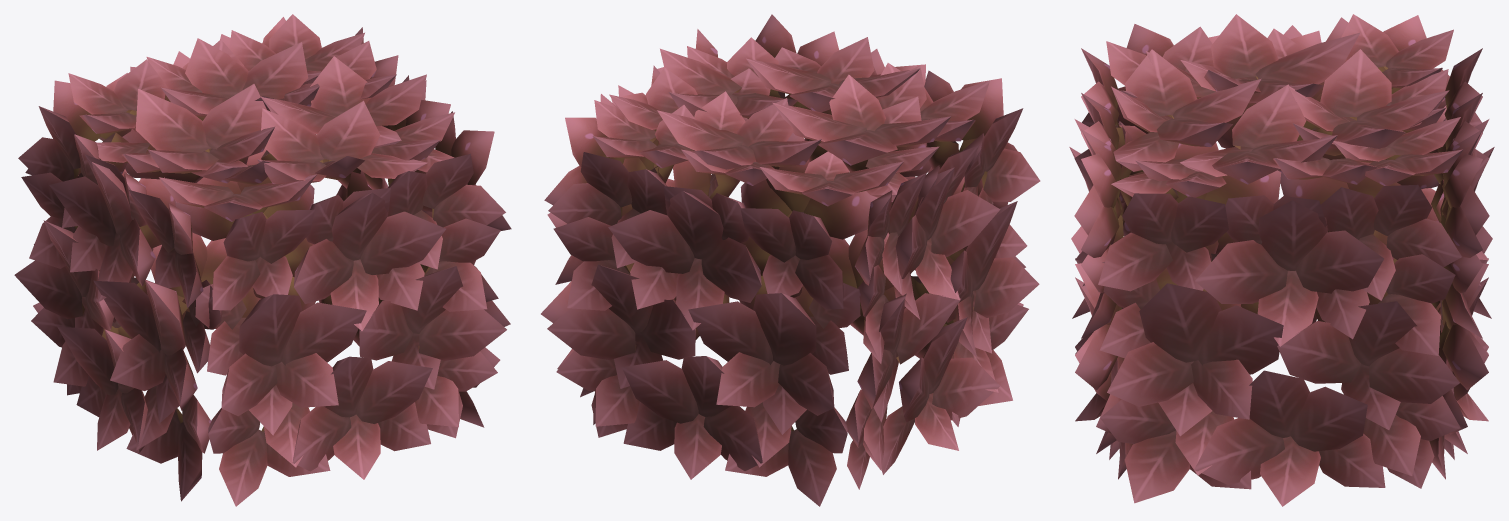
Rendered from bush_r.FBX.
3 views of the same model, side by side, from view 1: azimuth 30°, elevation 25°; view 2: azimuth 150°, elevation 25°; view 3: azimuth 270°, elevation 25° (orthographic). The views are drawn at different scales.
Parts seen in each view (by area): view 1: Box260; view 2: Box260; view 3: Box260.
Part boxes in pixels (x1=…): Box260: x1=14, y1=14, x2=511, y2=506; Box260: x1=541, y1=14, x2=1040, y2=506; Box260: x1=1069, y1=14, x2=1494, y2=506.
Size of the model in its own units: 13.37 by 11.94 by 13.38.
